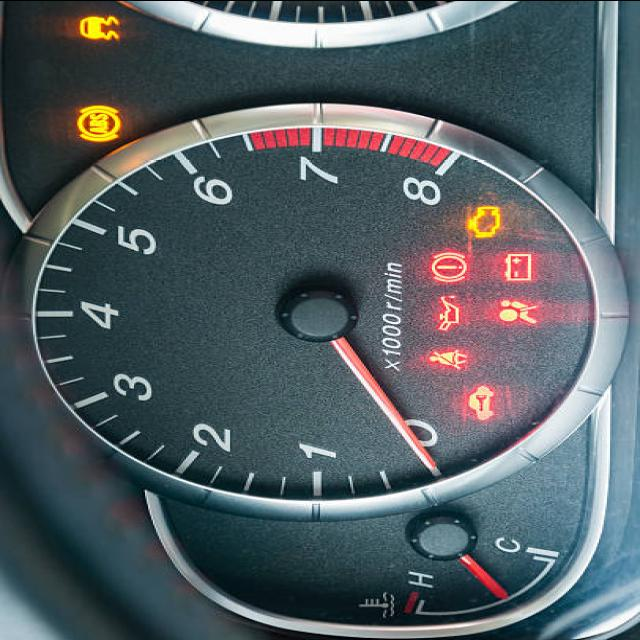Anti Lock Braking System: (72, 102, 126, 144)
Braking System Issue: (429, 248, 471, 284)
Charging System Issue: (500, 250, 536, 282)
Check Engine: (464, 202, 504, 240)
Electronic Stability Problem -ESP-: (74, 11, 124, 43)
Low Engine Oil Warning Light: (432, 292, 465, 332)
SRS-Airbag: (494, 296, 542, 326)
